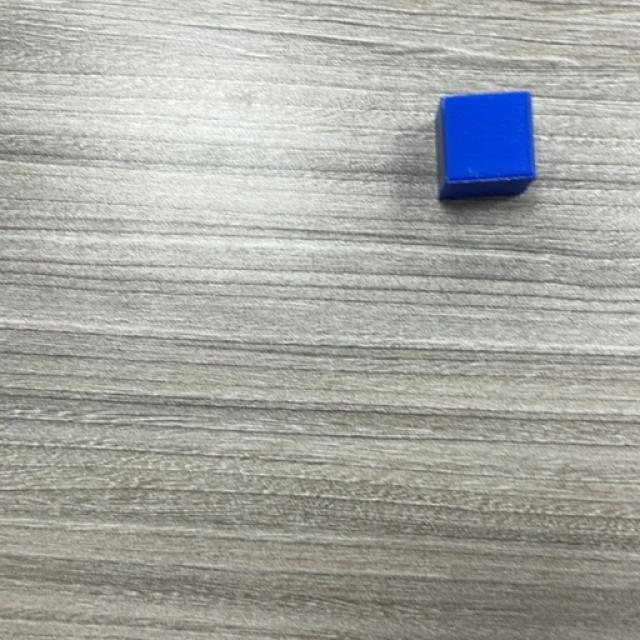Azul: (435, 91, 538, 202)
